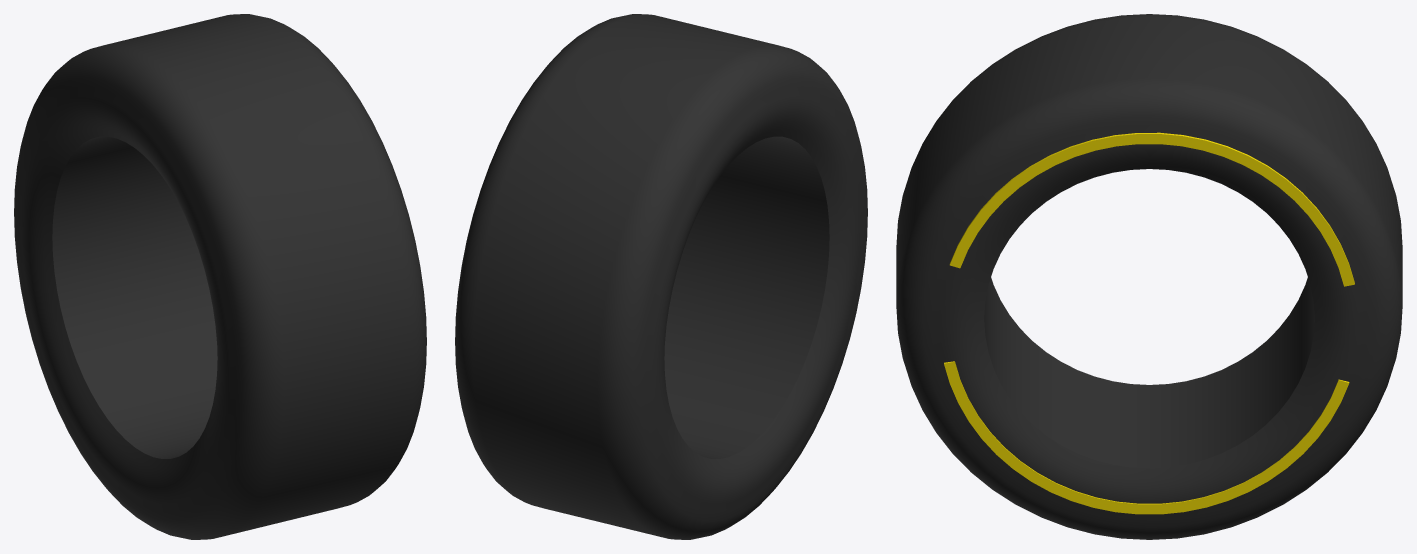
Rendered from slick_front.glb.
3 views of the same model, side by side, from view 1: azimuth 30°, elevation 25°; view 2: azimuth 150°, elevation 25°; view 3: azimuth 270°, elevation 25° (orthographic).
Parts seen in each view (by area): view 1: Tyre_slick_front; view 2: Tyre_slick_front; view 3: Tyre_slick_front.
Part boxes in pixels (x1=…): Tyre_slick_front: x1=14, y1=14, x2=426, y2=539; Tyre_slick_front: x1=455, y1=14, x2=867, y2=539; Tyre_slick_front: x1=896, y1=14, x2=1402, y2=539.
Bounding box in the file's own units: 0.3162 × 0.72 × 0.72.
